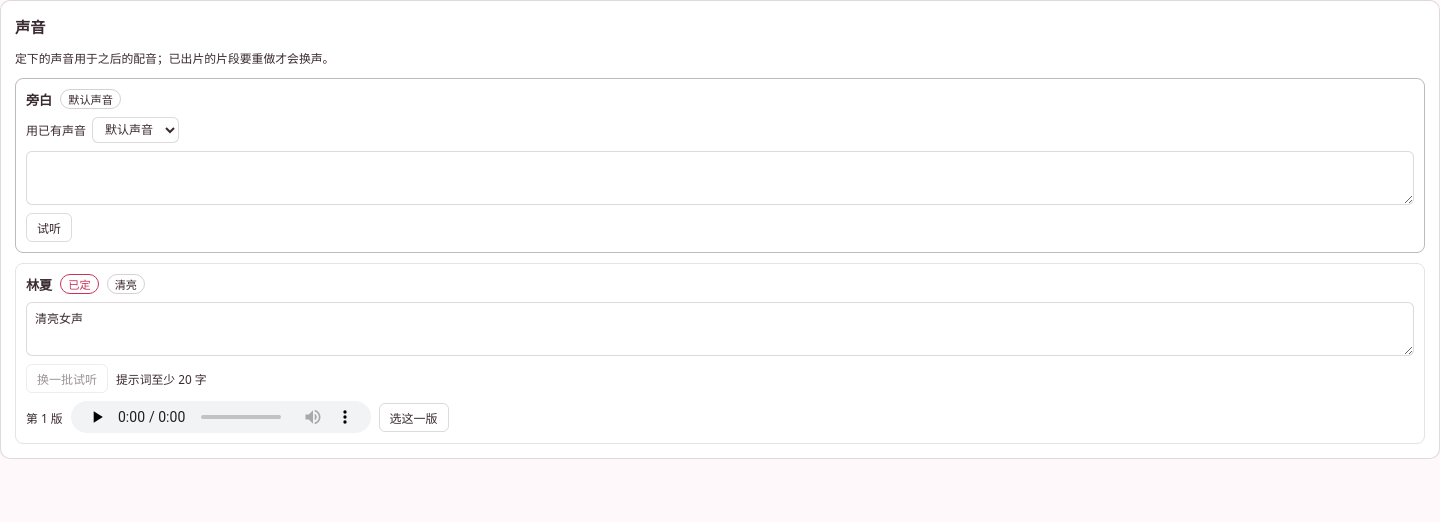
Test: changing a cast voice › refuses a voice another character already has
Click the button "选这一版" at [414, 417], box [379,402,449,432]
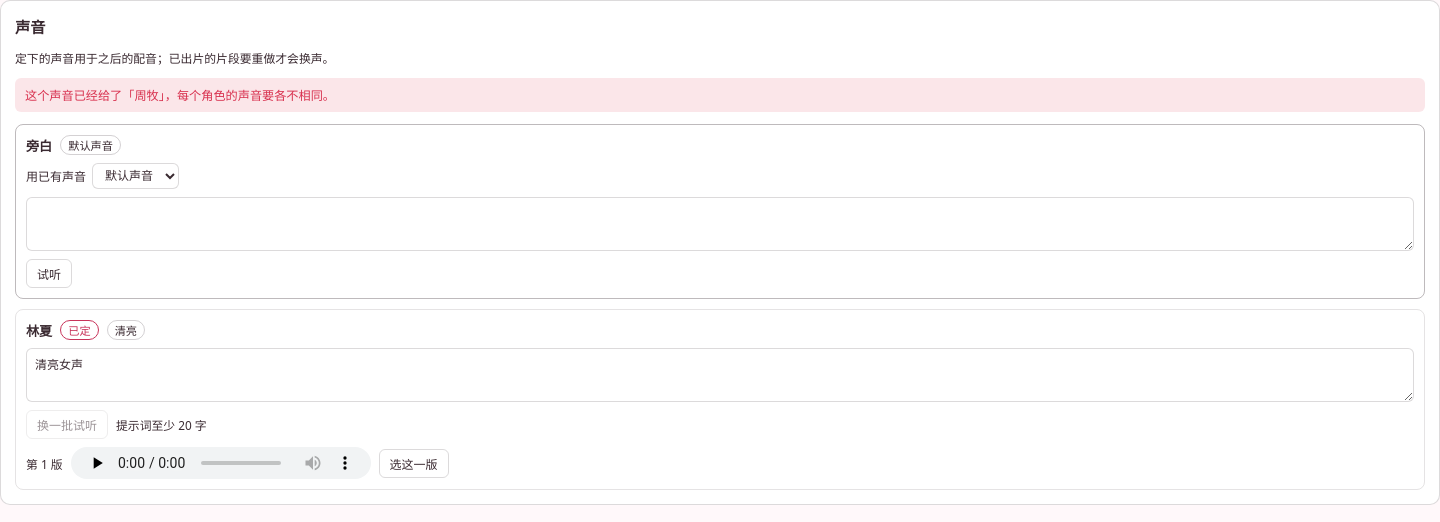
Now the text "这个声音已经给了「周牧」，每个角色的声音要各不相同。" is shown, box [15,78,1425,112]
